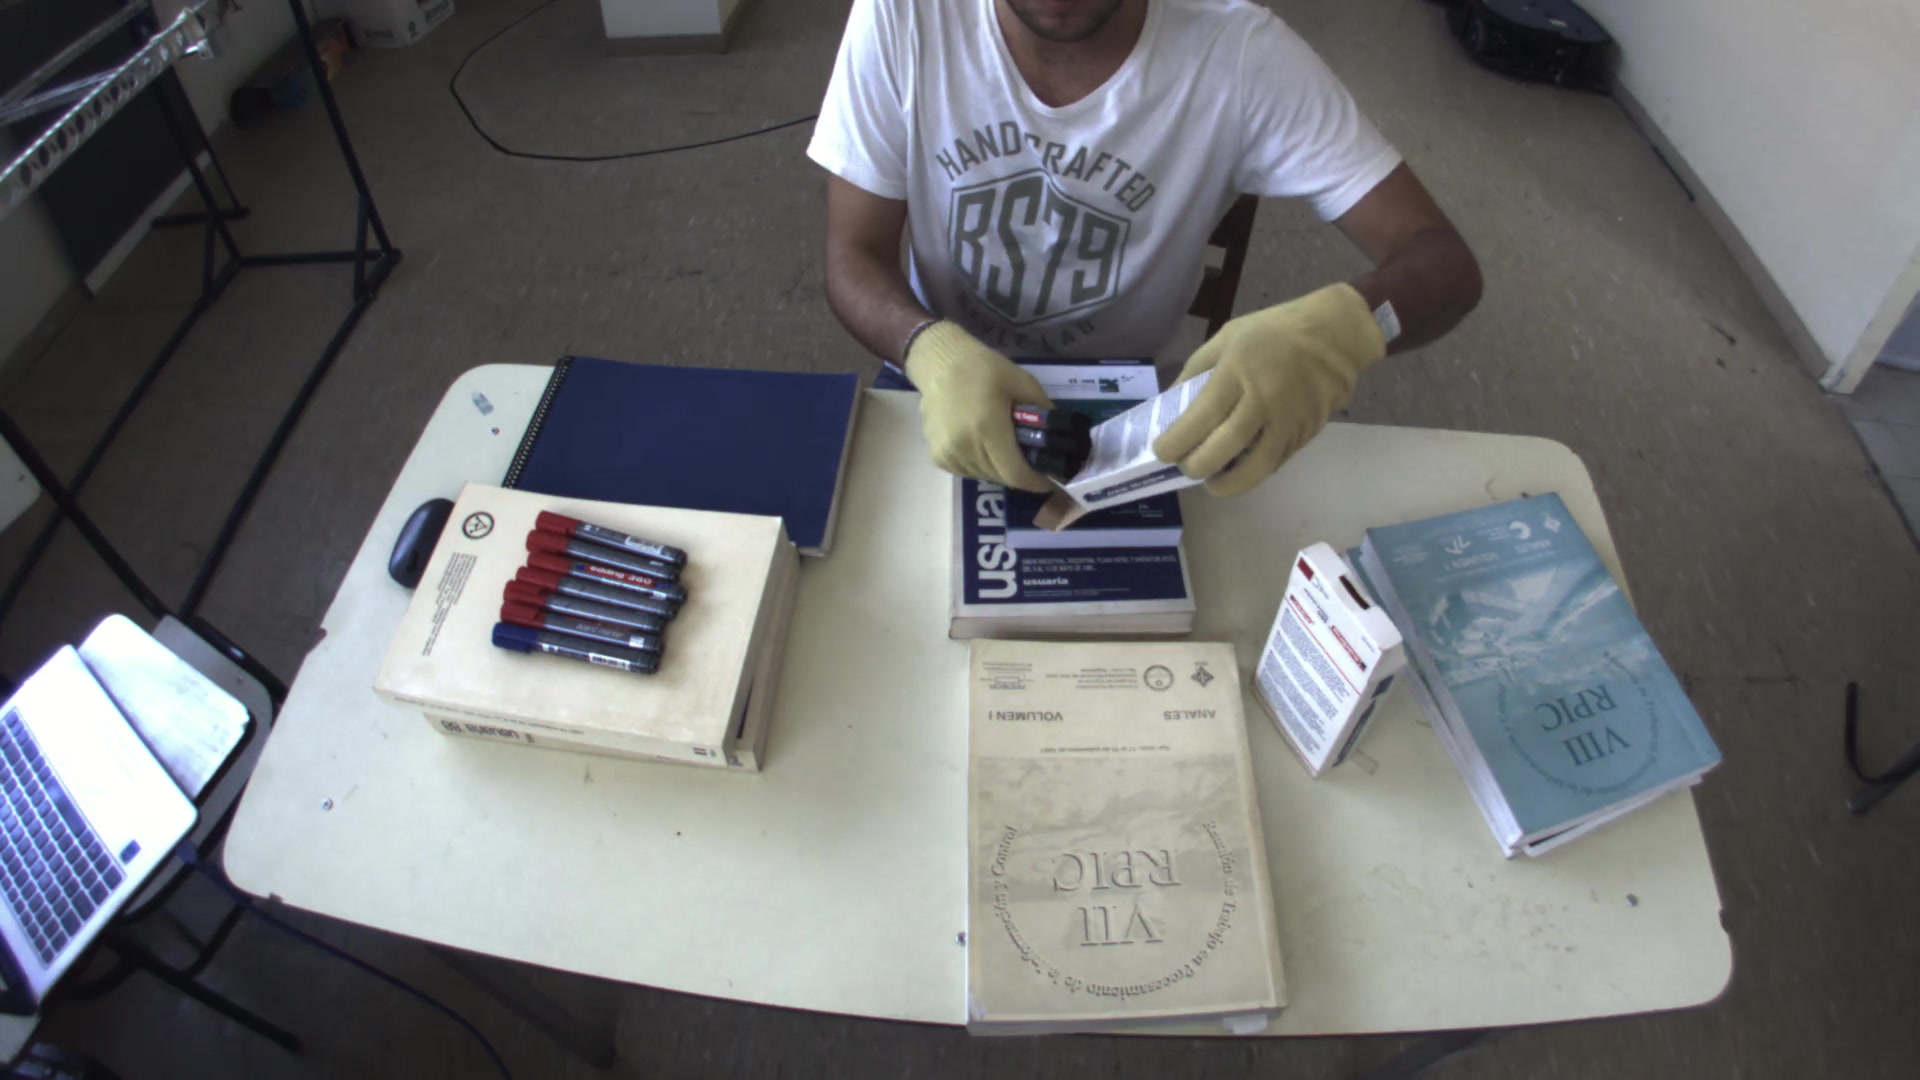hand: (1147, 272, 1398, 500), (897, 313, 1071, 516)
